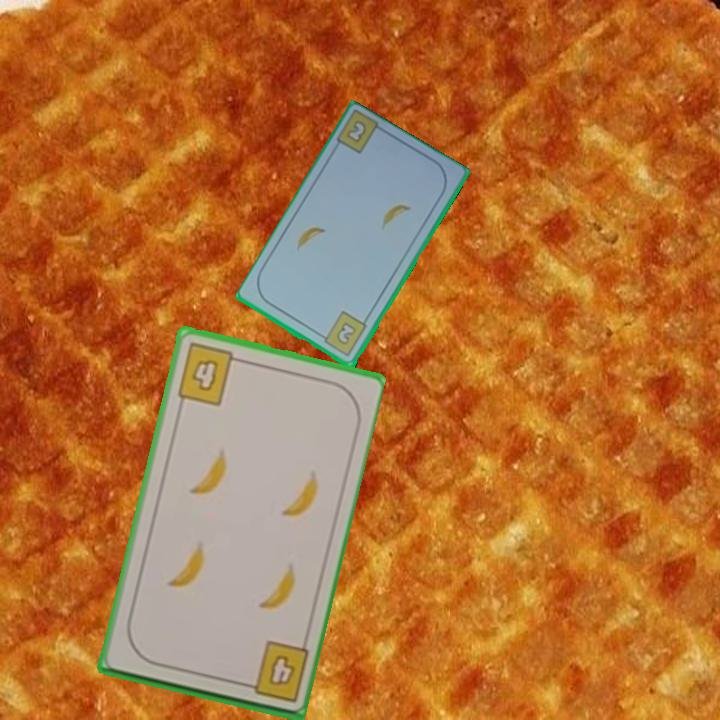2b: (316, 308, 370, 360), (343, 117, 369, 146)
4b: (236, 637, 311, 705), (173, 339, 245, 409)
